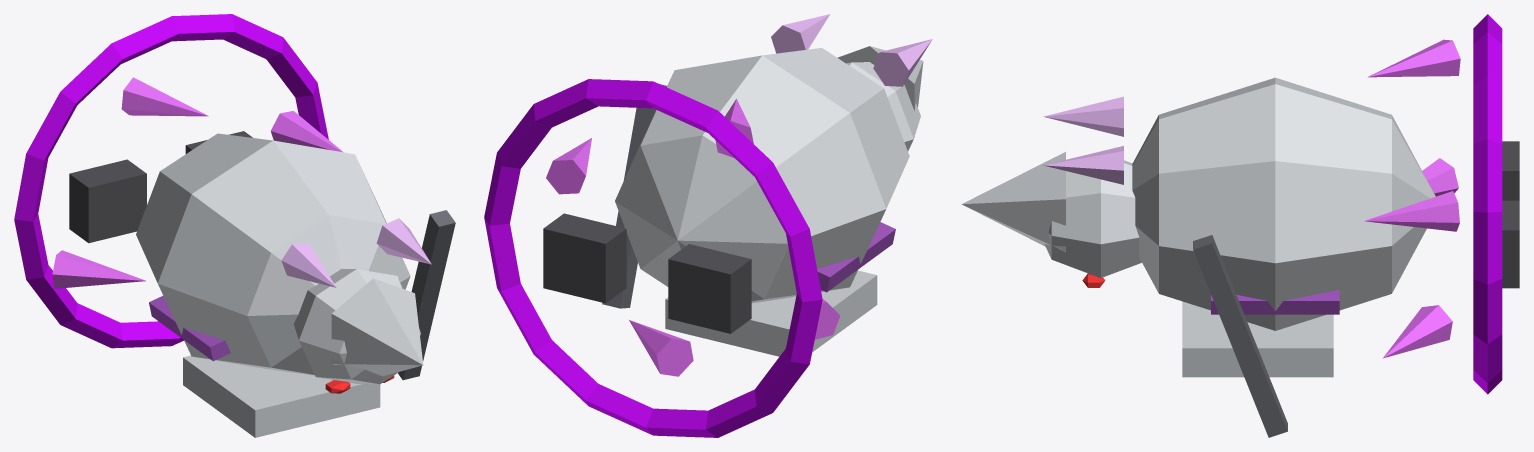
File: TD_Enemy_Knight_Chaos.fbx
The picture shows the model from 3 angles, left to right: view 1: azimuth 30°, elevation 25°; view 2: azimuth 150°, elevation 25°; view 3: azimuth 270°, elevation 25°; orthographic projection. The views are drawn at different scales.
Parts seen in each view (by area): view 1: TD_Enemy_Knight_Chaos_Body, TD_Enemy_Knight_Chaos_ChaosAura_Ring, TD_Enemy_Knight_Chaos_ChestShield, TD_Enemy_Knight_Chaos_HelmetCrest, TD_Enemy_Knight_Chaos_Foot_Left, TD_Enemy_Knight_Chaos_Head, TD_Enemy_Knight_Chaos_SmallLance, TD_Enemy_Knight_Chaos_ChaosFlameWisp_03, TD_Enemy_Knight_Chaos_ChaosFlameWisp_02, TD_Enemy_Knight_Chaos_ChaosAccent_01, TD_Enemy_Knight_Chaos_ChaosFlameWisp_01, TD_Enemy_Knight_Chaos_ChaosEnergySpike_02 (+1 smaller); view 2: TD_Enemy_Knight_Chaos_Body, TD_Enemy_Knight_Chaos_ChaosAura_Ring, TD_Enemy_Knight_Chaos_Foot_Right, TD_Enemy_Knight_Chaos_Foot_Left, TD_Enemy_Knight_Chaos_ChestShield, TD_Enemy_Knight_Chaos_ChaosFlameWisp_04, TD_Enemy_Knight_Chaos_SmallLance, TD_Enemy_Knight_Chaos_Head, TD_Enemy_Knight_Chaos_ChaosFlameWisp_01, TD_Enemy_Knight_Chaos_ChaosEnergySpike_01, TD_Enemy_Knight_Chaos_ChaosAccent_01, TD_Enemy_Knight_Chaos_ChaosEnergySpike_02 (+3 smaller); view 3: TD_Enemy_Knight_Chaos_Body, TD_Enemy_Knight_Chaos_ChaosAura_Ring, TD_Enemy_Knight_Chaos_ChestShield, TD_Enemy_Knight_Chaos_Head, TD_Enemy_Knight_Chaos_SmallLance, TD_Enemy_Knight_Chaos_HelmetCrest, TD_Enemy_Knight_Chaos_ChaosFlameWisp_01, TD_Enemy_Knight_Chaos_ChaosFlameWisp_02, TD_Enemy_Knight_Chaos_ChaosFlameWisp_04, TD_Enemy_Knight_Chaos_ChaosAccent_02, TD_Enemy_Knight_Chaos_ChaosEnergySpike_01, TD_Enemy_Knight_Chaos_ChaosEnergySpike_02 (+3 smaller).
Boxes of the visible parts, bbox=[...] form: TD_Enemy_Knight_Chaos_Body: bbox=[136, 133, 410, 375]; TD_Enemy_Knight_Chaos_ChaosAura_Ring: bbox=[14, 14, 328, 348]; TD_Enemy_Knight_Chaos_ChestShield: bbox=[183, 355, 380, 437]; TD_Enemy_Knight_Chaos_HelmetCrest: bbox=[331, 278, 423, 376]; TD_Enemy_Knight_Chaos_Foot_Left: bbox=[69, 159, 146, 243]; TD_Enemy_Knight_Chaos_Head: bbox=[294, 268, 420, 384]; TD_Enemy_Knight_Chaos_SmallLance: bbox=[398, 210, 455, 380]; TD_Enemy_Knight_Chaos_ChaosFlameWisp_03: bbox=[52, 250, 145, 288]; TD_Enemy_Knight_Chaos_ChaosFlameWisp_02: bbox=[121, 77, 208, 116]; TD_Enemy_Knight_Chaos_ChaosAccent_01: bbox=[149, 296, 230, 361]; TD_Enemy_Knight_Chaos_ChaosFlameWisp_01: bbox=[271, 111, 343, 152]; TD_Enemy_Knight_Chaos_ChaosEnergySpike_02: bbox=[376, 218, 431, 264]; TD_Enemy_Knight_Chaos_Body: bbox=[615, 48, 909, 303]; TD_Enemy_Knight_Chaos_ChaosAura_Ring: bbox=[484, 79, 822, 437]; TD_Enemy_Knight_Chaos_Foot_Right: bbox=[543, 213, 626, 303]; TD_Enemy_Knight_Chaos_Foot_Left: bbox=[668, 244, 751, 333]; TD_Enemy_Knight_Chaos_ChestShield: bbox=[665, 270, 877, 356]; TD_Enemy_Knight_Chaos_ChaosFlameWisp_04: bbox=[629, 320, 693, 376]; TD_Enemy_Knight_Chaos_SmallLance: bbox=[602, 84, 666, 308]; TD_Enemy_Knight_Chaos_Head: bbox=[846, 62, 920, 151]; TD_Enemy_Knight_Chaos_ChaosFlameWisp_01: bbox=[546, 138, 591, 194]; TD_Enemy_Knight_Chaos_ChaosEnergySpike_01: bbox=[873, 39, 932, 86]; TD_Enemy_Knight_Chaos_ChaosAccent_01: bbox=[817, 222, 895, 292]; TD_Enemy_Knight_Chaos_ChaosEnergySpike_02: bbox=[771, 14, 830, 53]; TD_Enemy_Knight_Chaos_Body: bbox=[1132, 77, 1435, 330]; TD_Enemy_Knight_Chaos_ChaosAura_Ring: bbox=[1473, 14, 1502, 394]; TD_Enemy_Knight_Chaos_ChestShield: bbox=[1182, 301, 1333, 377]; TD_Enemy_Knight_Chaos_Head: bbox=[1044, 160, 1141, 277]; TD_Enemy_Knight_Chaos_SmallLance: bbox=[1193, 235, 1287, 437]; TD_Enemy_Knight_Chaos_HelmetCrest: bbox=[961, 152, 1065, 251]; TD_Enemy_Knight_Chaos_ChaosFlameWisp_01: bbox=[1364, 191, 1459, 231]; TD_Enemy_Knight_Chaos_ChaosFlameWisp_02: bbox=[1367, 39, 1460, 77]; TD_Enemy_Knight_Chaos_ChaosFlameWisp_04: bbox=[1383, 305, 1452, 358]; TD_Enemy_Knight_Chaos_ChaosAccent_02: bbox=[1211, 290, 1339, 314]; TD_Enemy_Knight_Chaos_ChaosEnergySpike_01: bbox=[1043, 96, 1123, 136]; TD_Enemy_Knight_Chaos_ChaosEnergySpike_02: bbox=[1043, 146, 1123, 184].
Size of the model in its own units: 0.655 by 0.655 by 0.96.
